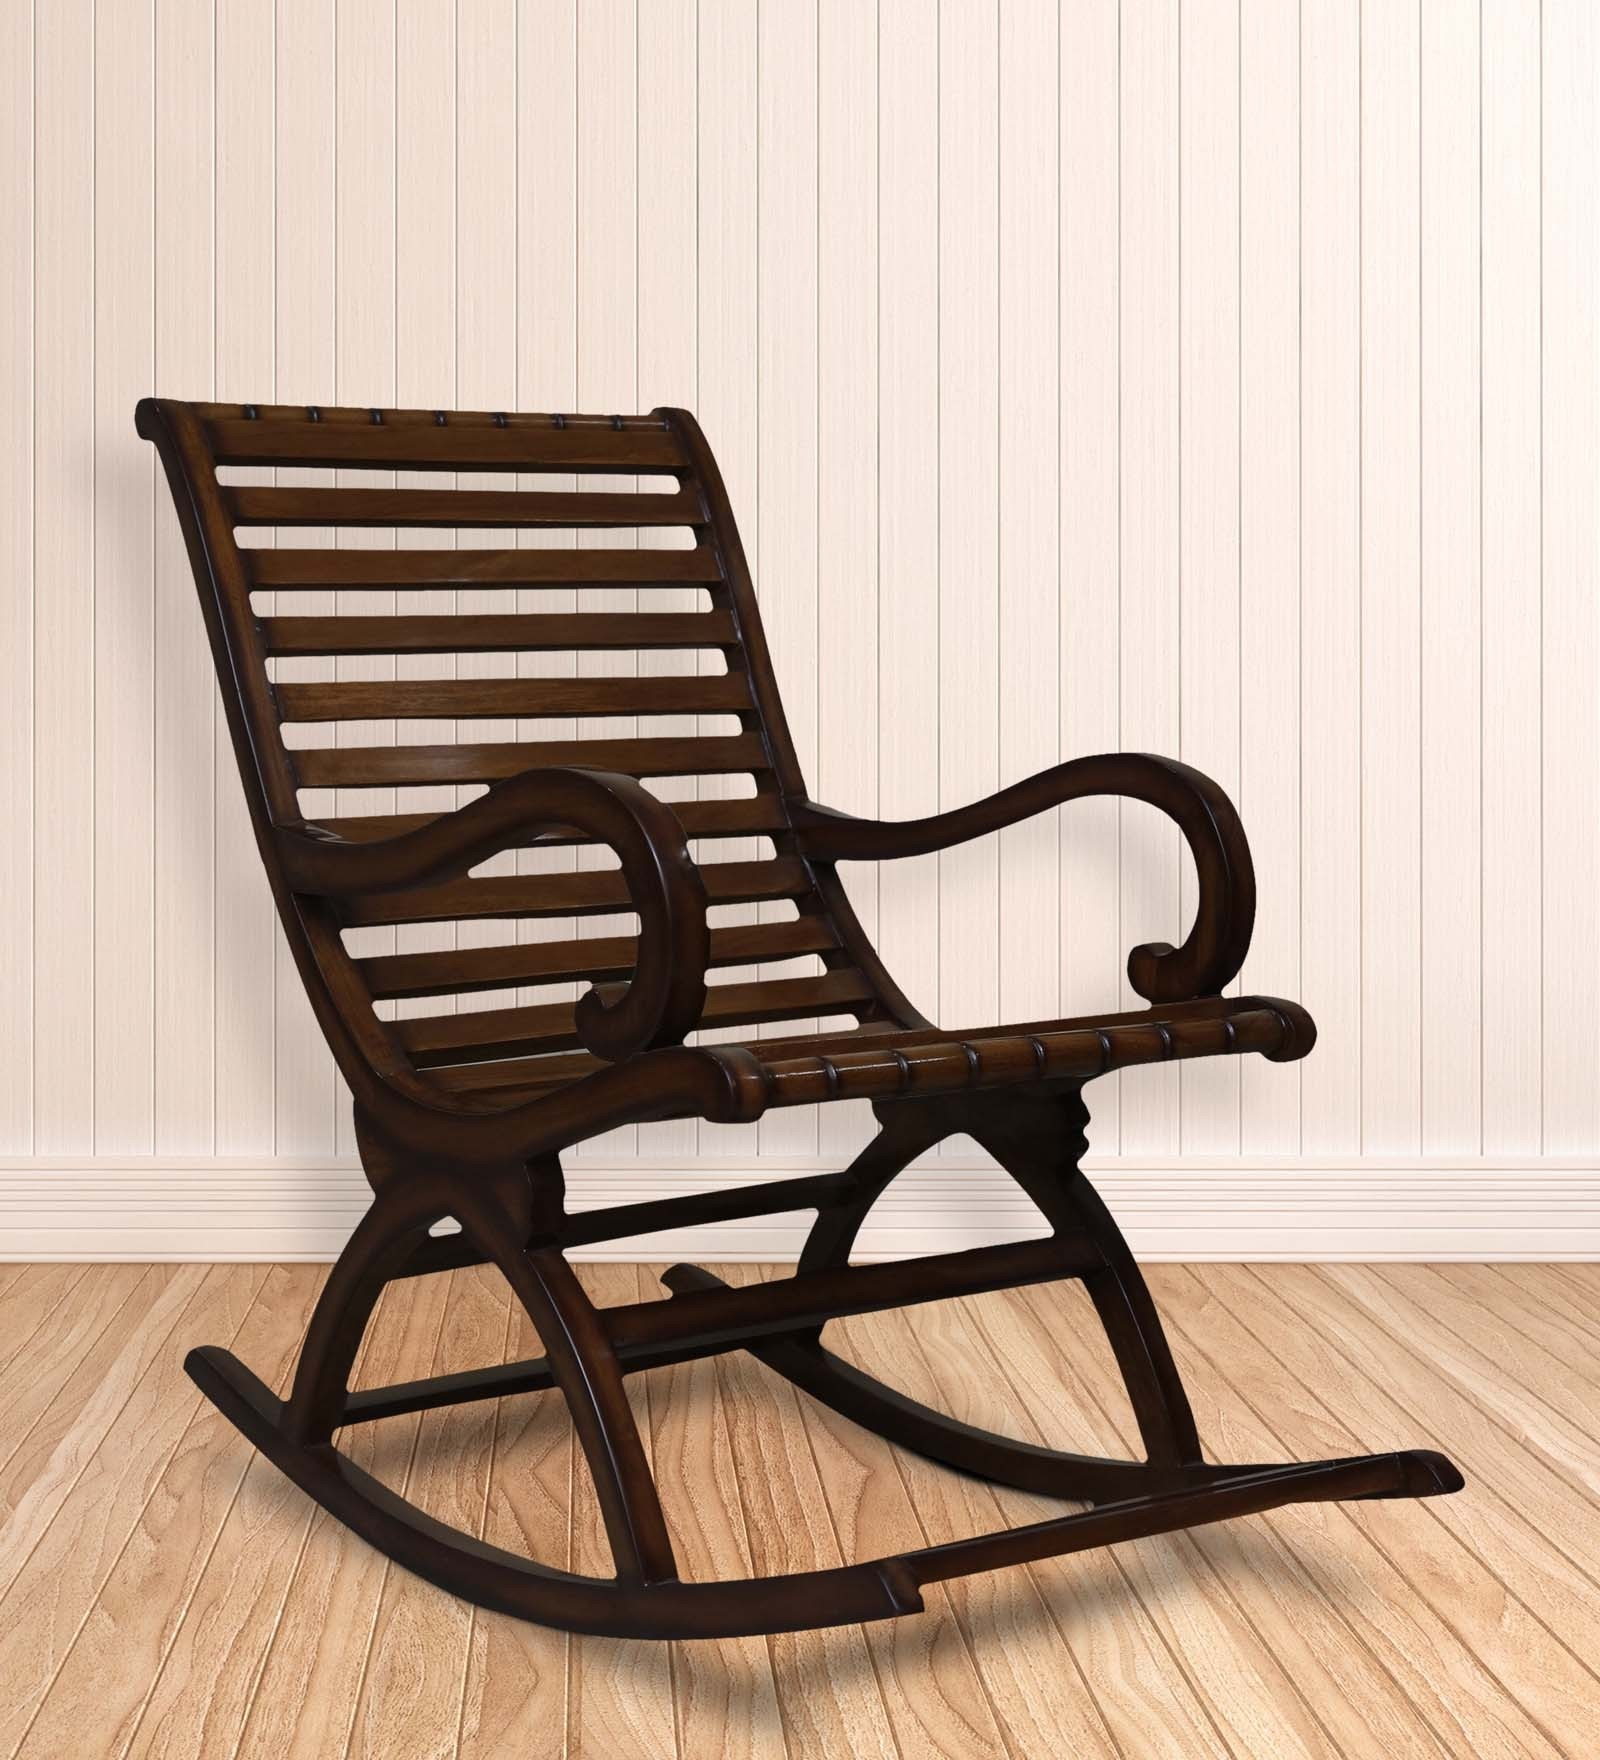Rocking Chair in Teak Colour by RVF: (51, 287, 1503, 1673)
